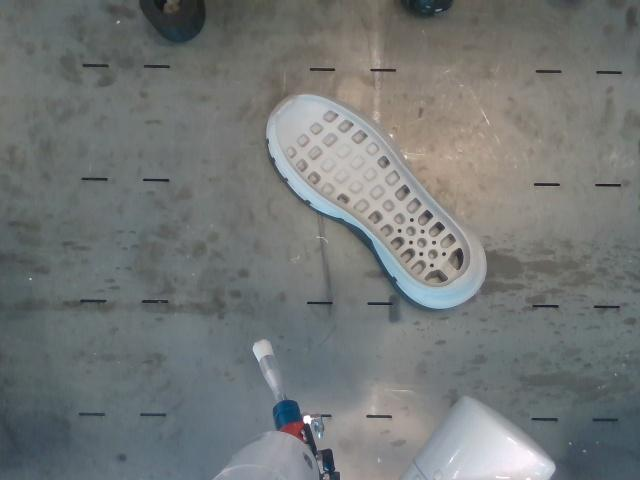shoes: (275, 97, 470, 288)
